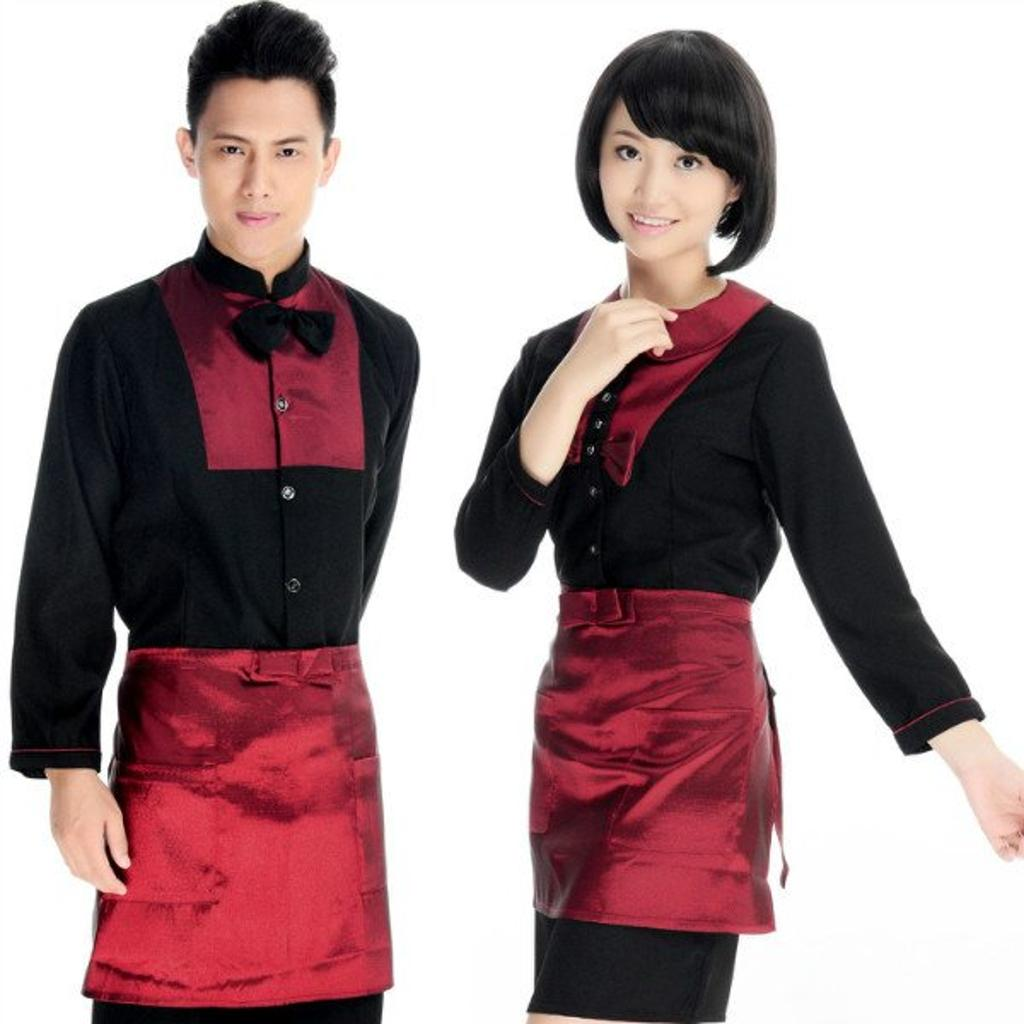face: (198, 72, 326, 262), (596, 74, 726, 260)
